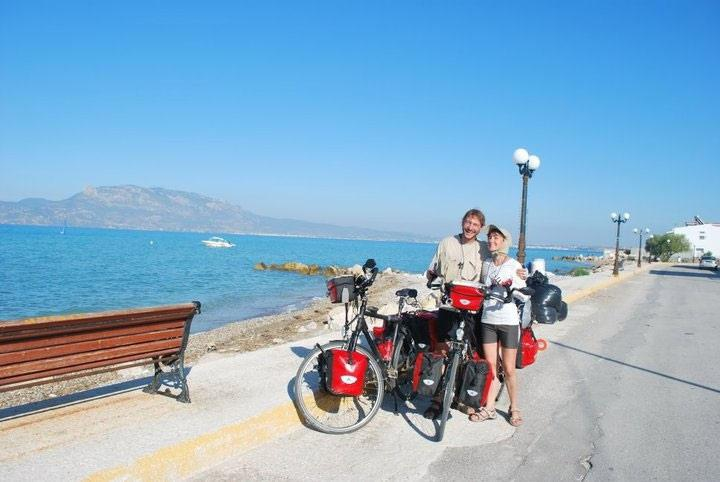non-vehicle: (294, 258, 429, 435), (430, 272, 521, 440)
